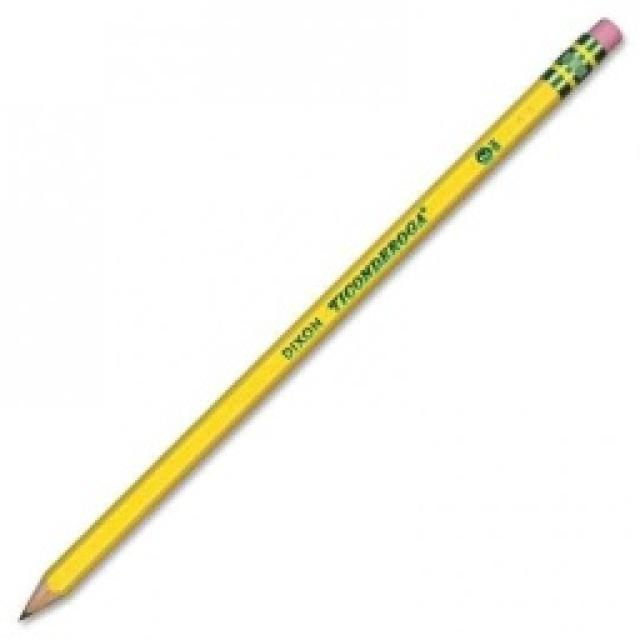pencil: (12, 10, 628, 622)
